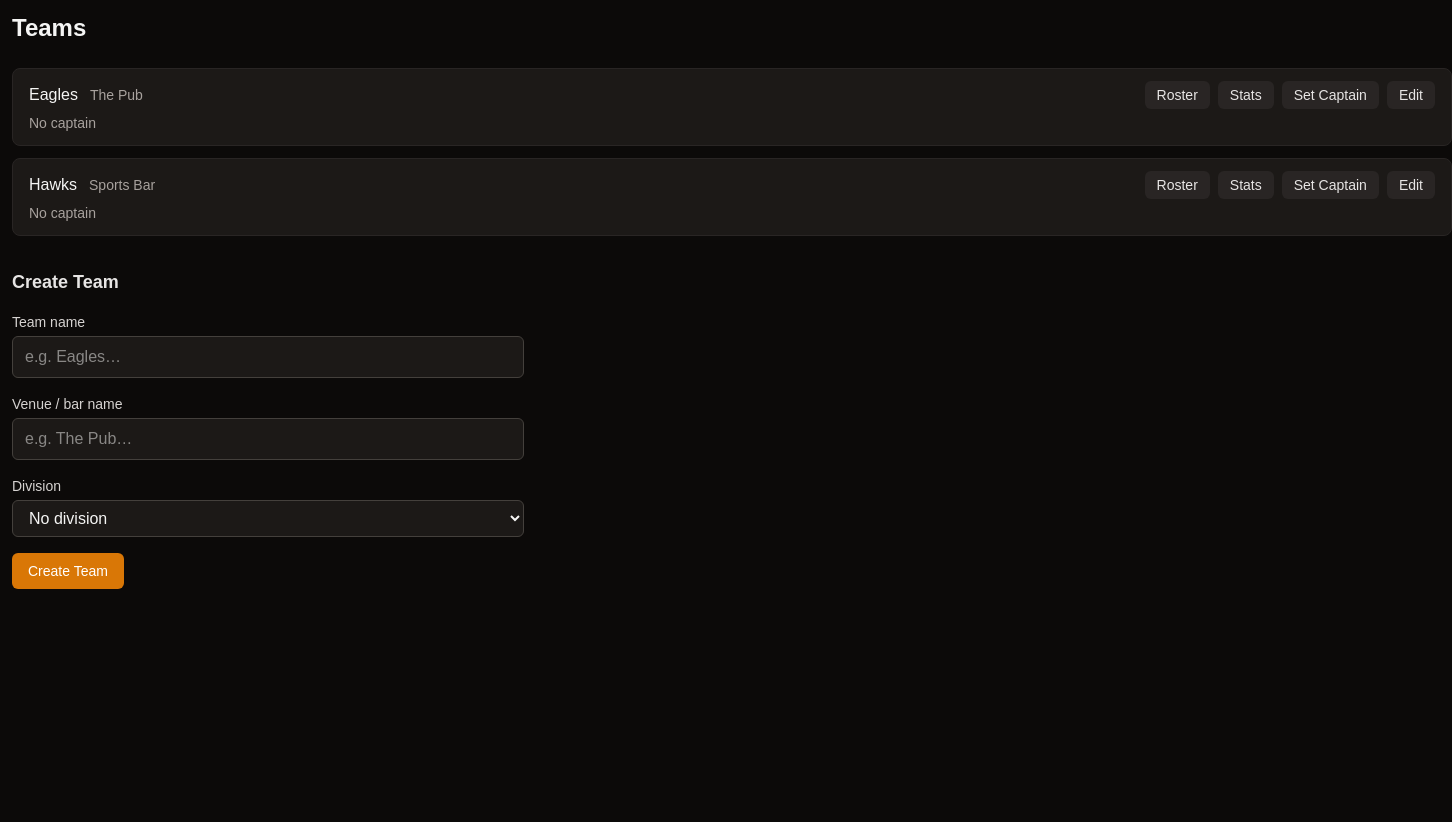
Test: TeamsPage › shows player selector when Set Captain is clicked
Click the button "Set Captain" in the row of "The Pub". click: (1330, 95)
box: [1282,81,1379,109]
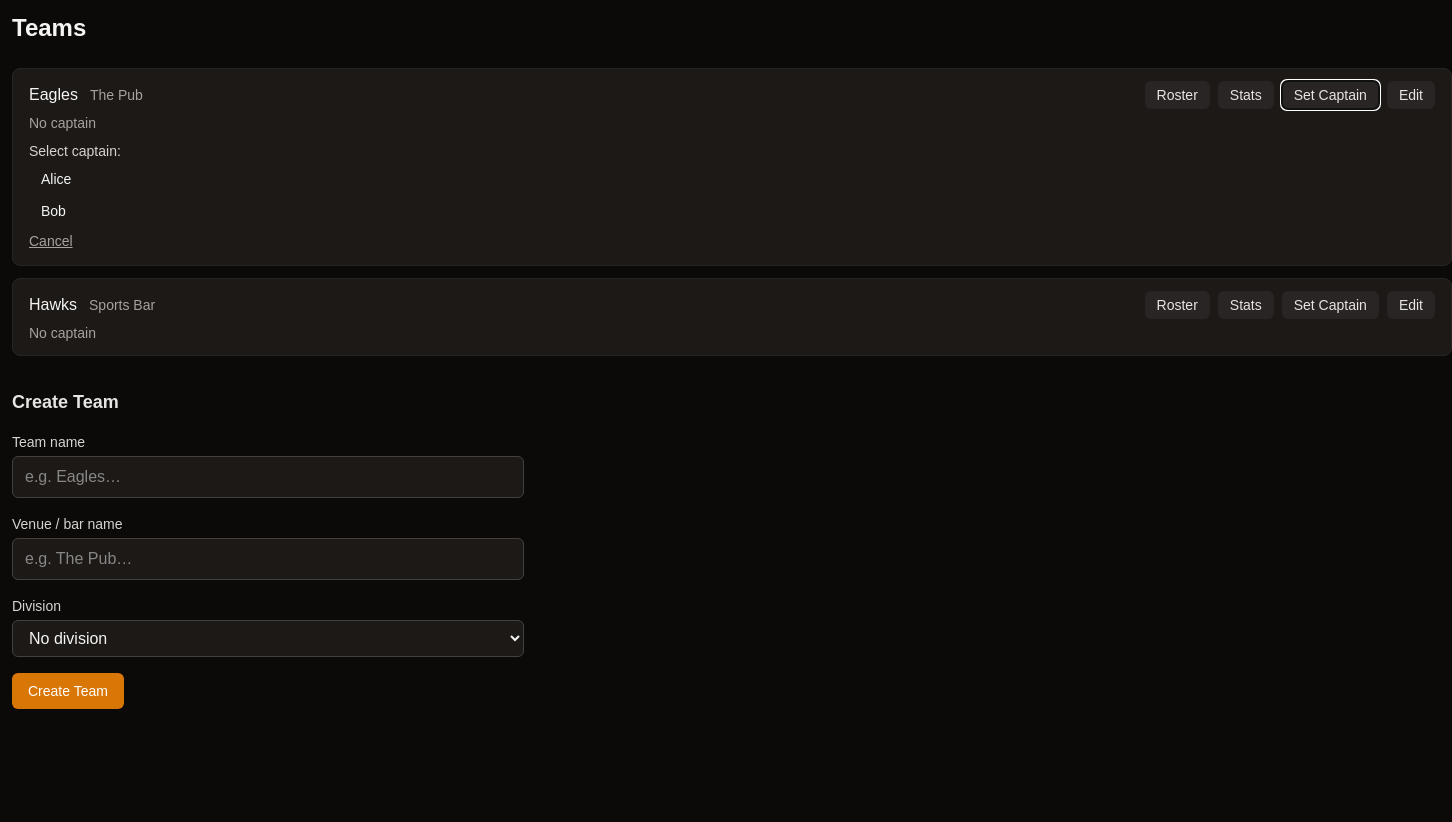
Now the button "Alice" is shown, box [29,165,1435,193]
Now the button "Bob" is shown, box [29,197,1435,225]
